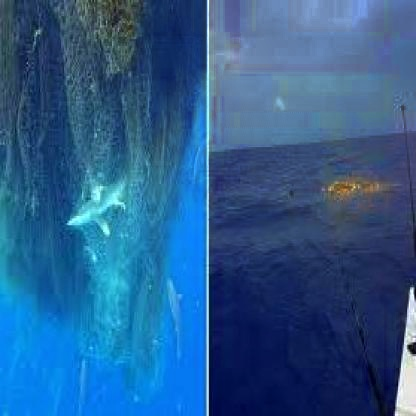net: (1, 2, 190, 182)
